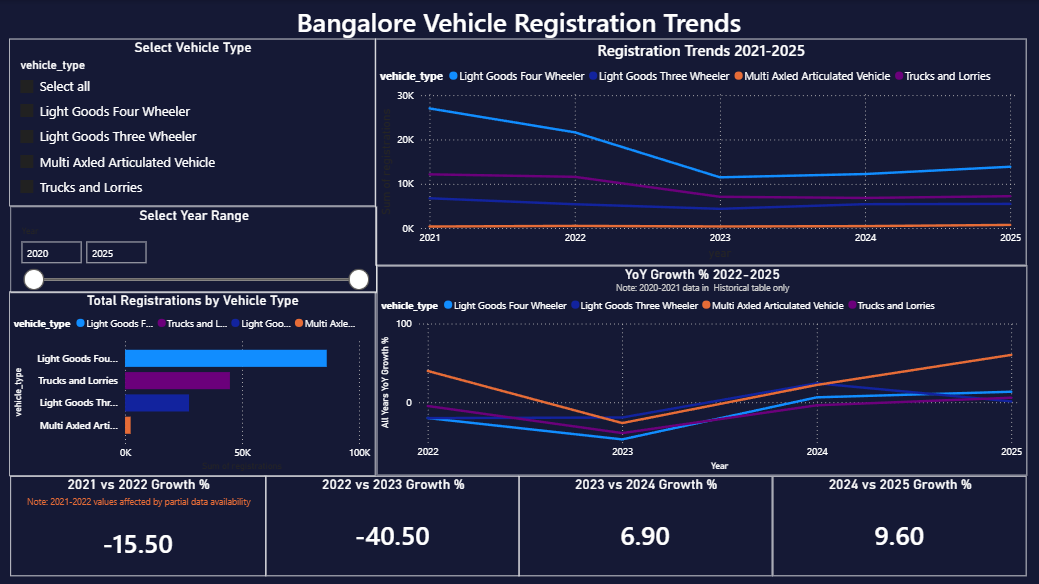

What the dashboard file says about the page in this screenshot:
{"tool":"powerbi","page":{"name":"Page 4","canvas":[1280,720],"ordinal":3},"visuals":[{"type":"textbox","box":[345,0,588.4,53.2],"z":0},{"type":"lineChart","title":"Registration Trends 2021-2025","fields":{"Category":["vw_vehicle_trends.year"],"Y":["Sum(vw_vehicle_trends.registrations)"],"Series":["vw_vehicle_trends.vehicle_type"]},"box":[462.7,48.4,801.2,278.9],"z":1000},{"type":"barChart","title":"Total Registrations by Vehicle Type","fields":{"Category":["vw_vehicle_trends.vehicle_type"],"Y":["Sum(vw_vehicle_trends.registrations)"],"Series":["vw_vehicle_trends.vehicle_type"]},"box":[11.3,359.5,451.4,227.3],"z":2000},{"type":"cardVisual","title":"2024 vs 2025 Growth %","fields":{"Data":["vw_vehicle_trends.2025 vs 2024 Growth"]},"box":[951.9,586.2,312.7,123],"z":3000},{"type":"slicer","title":"Select Vehicle Type","fields":{"Values":["vw_vehicle_trends.vehicle_type"]},"box":[11.3,48.4,451.4,206.3],"z":4000},{"type":"slicer","title":"Select Year Range","fields":{"Values":["Years.Year"]},"box":[12,254.6,451.2,106],"z":5000},{"type":"cardVisual","title":"2021 vs 2022 Growth %","fields":{"Data":["vw_vehicle_trends.Growth 2021 vs 2022"]},"box":[12,586.2,314.4,123],"z":6000},{"type":"cardVisual","title":"2022 vs 2023 Growth %","fields":{"Data":["vw_vehicle_trends.Growth 2022 vs 2023"]},"box":[326.4,586.2,312.7,123],"z":7000},{"type":"cardVisual","title":"2023 vs 2024 Growth %","fields":{"Data":["vw_vehicle_trends.Growth 2023 vs 2024"]},"box":[639.1,586.2,312.7,123],"z":8000},{"type":"lineChart","title":"YoY Growth % 2022-2025","fields":{"Category":["Years.Year"],"Y":["vw_rto_growth.All Years YoY Growth %"],"Series":["vw_vehicle_trends.vehicle_type"]},"box":[463.7,326.8,800.9,258.4],"z":9000}]}

Visuals, with their boxes in screenshot pixels (x1, y1, x2, y2), scaled from the page's 1280x720 canvas onto the 1039x584 screenshot:
textbox: region(280, 0, 758, 43)
"Registration Trends 2021-2025" lineChart: region(376, 39, 1026, 265)
"Total Registrations by Vehicle Type" barChart: region(9, 292, 376, 476)
"2024 vs 2025 Growth %" cardVisual: region(773, 475, 1026, 575)
"Select Vehicle Type" slicer: region(9, 39, 376, 207)
"Select Year Range" slicer: region(10, 207, 376, 292)
"2021 vs 2022 Growth %" cardVisual: region(10, 475, 265, 575)
"2022 vs 2023 Growth %" cardVisual: region(265, 475, 519, 575)
"2023 vs 2024 Growth %" cardVisual: region(519, 475, 773, 575)
"YoY Growth % 2022-2025" lineChart: region(376, 265, 1026, 475)
